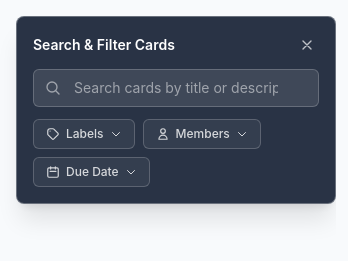
Test: CardSearchFilter › empty state › shows message when no members are available
Click the button "Members".
click(202, 134)  # box x1=143 y1=119 x2=261 y2=149
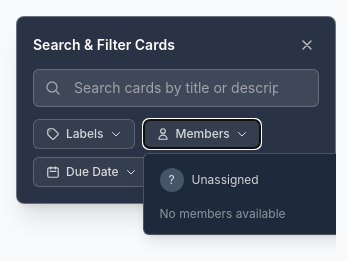
Now the text "No members available" is shown, box x1=160 y1=206 x2=286 y2=221
